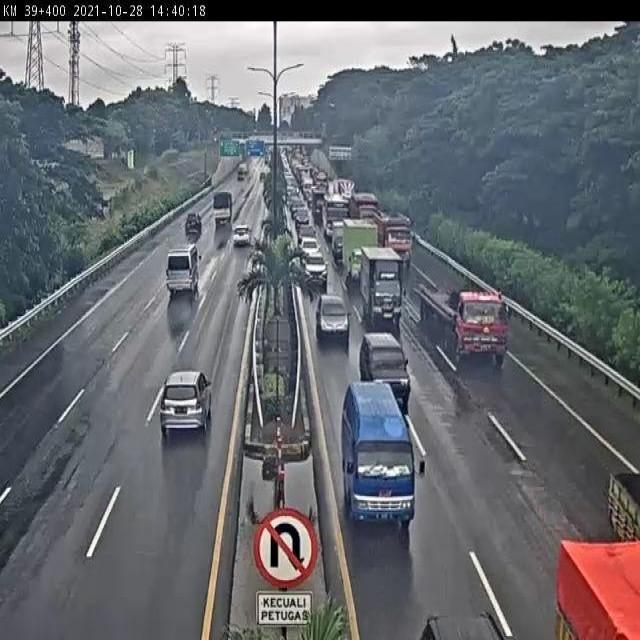big truck: (418, 276, 509, 364)
car: (359, 334, 412, 406), (157, 370, 210, 434), (315, 292, 350, 336), (303, 252, 329, 289), (229, 222, 252, 246)
small bus: (339, 382, 417, 526), (167, 247, 200, 293)
small truck: (360, 248, 408, 327)
